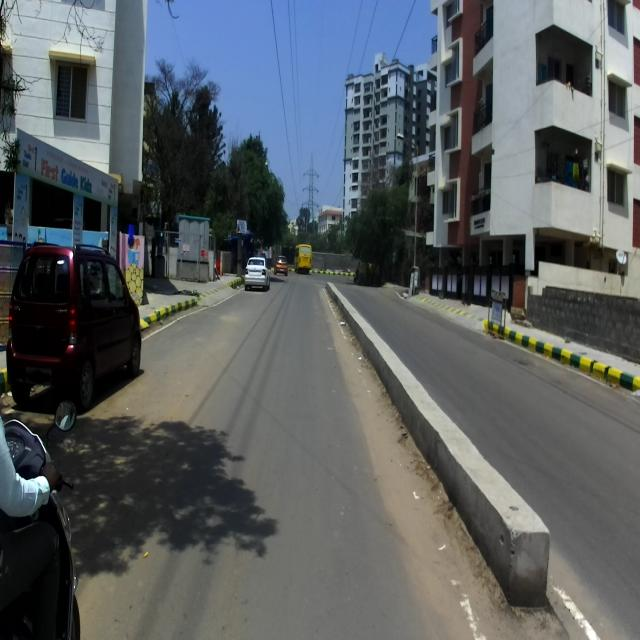car ahead at: (9, 242, 151, 403)
